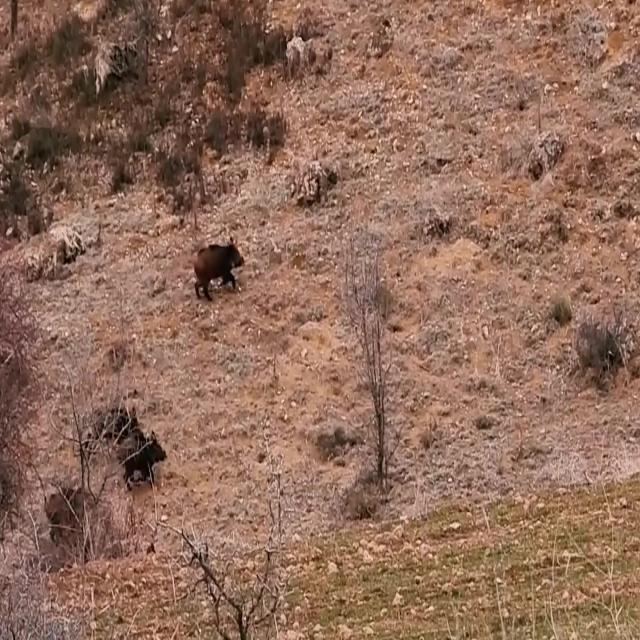pig: (173, 208, 256, 338)
